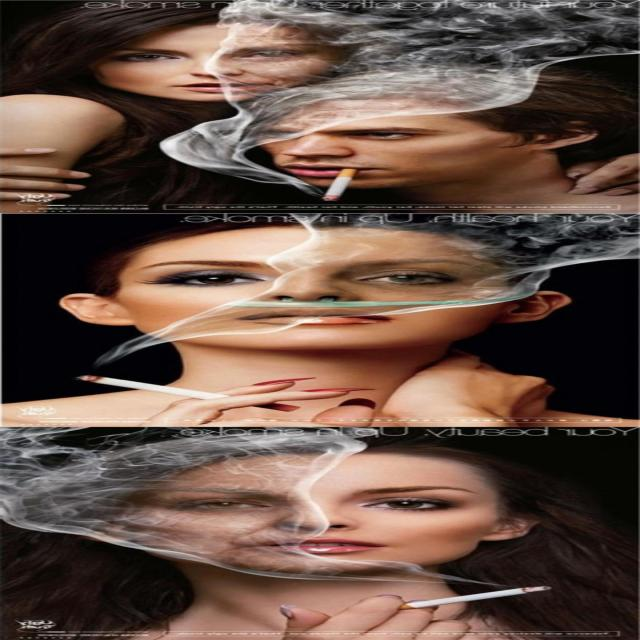smoking: (28, 227, 606, 415), (93, 436, 578, 637), (140, 71, 621, 208)
